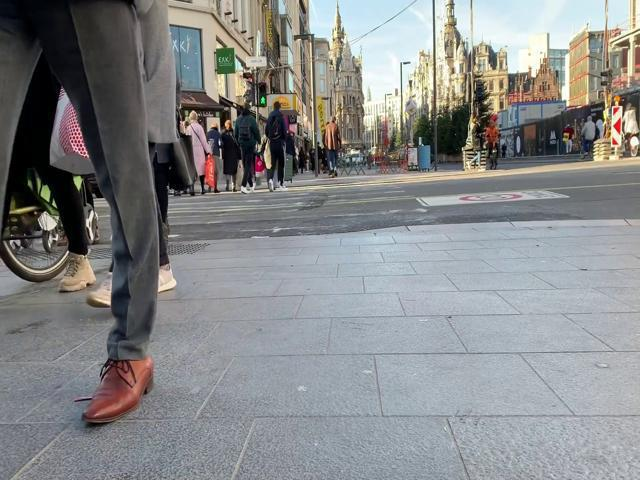shoe: (83, 358, 153, 423), (60, 254, 96, 293), (87, 272, 113, 308)
